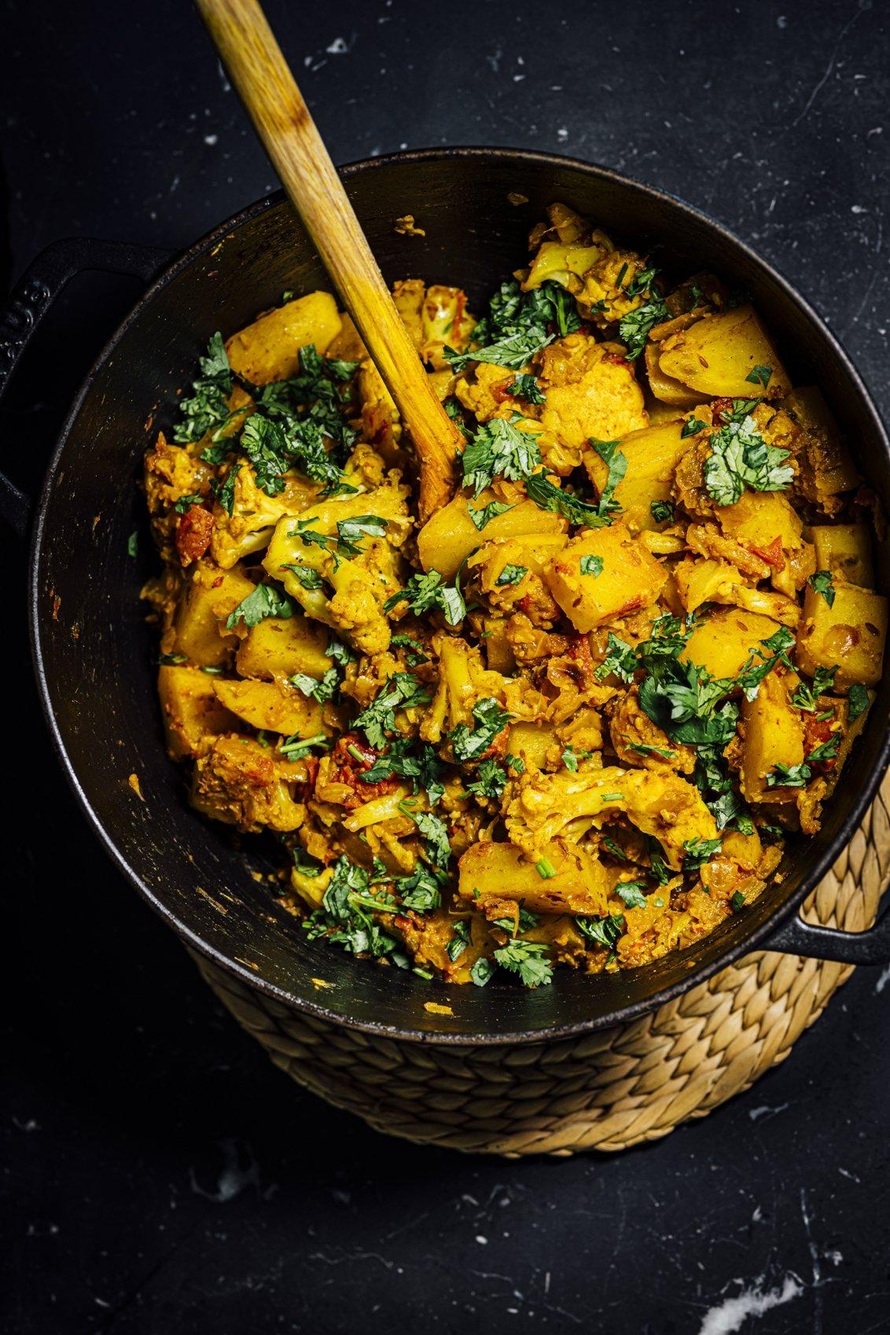aloo gobhi: (72, 206, 810, 1070)
